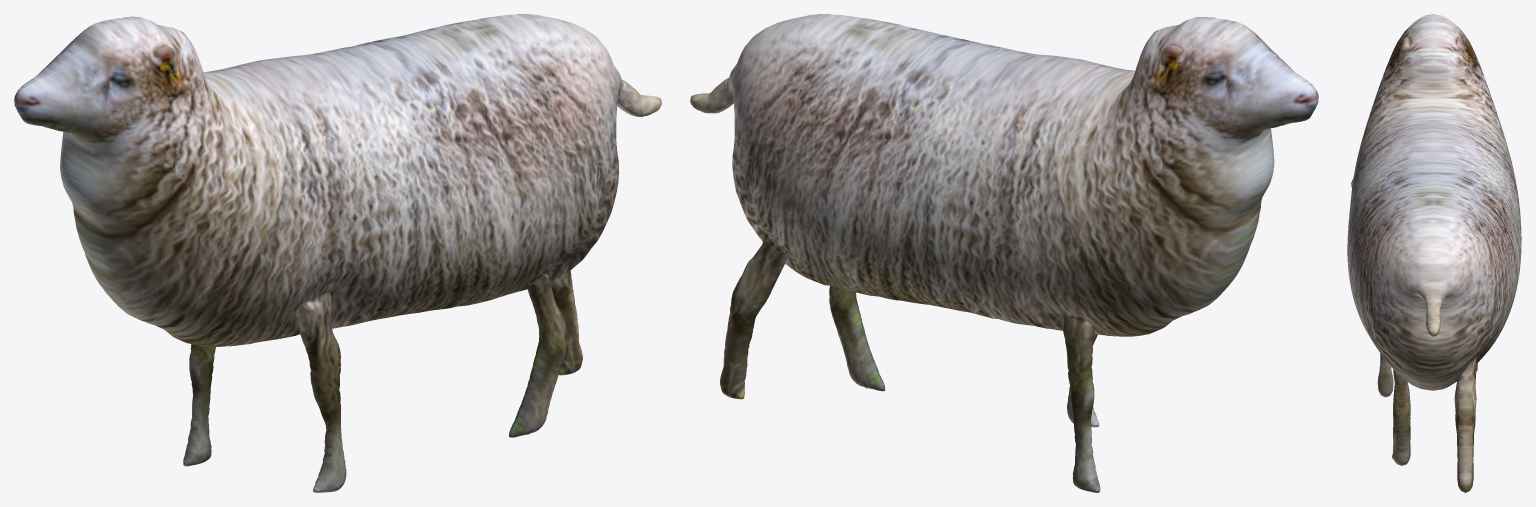
File: lamb.glb
3 views of the same model, side by side, from view 1: azimuth 30°, elevation 25°; view 2: azimuth 150°, elevation 25°; view 3: azimuth 270°, elevation 25° (orthographic). The views are drawn at different scales.
Visible parts, largest first — view 1: mesh_0; view 2: mesh_0; view 3: mesh_0.
Part boxes in pixels (bbox=[...]): mesh_0: bbox=[14, 14, 661, 492]; mesh_0: bbox=[690, 14, 1318, 492]; mesh_0: bbox=[1347, 14, 1521, 492].
Bounding box in the file's own units: 7.04 × 5.08 × 2.49.
1 material, 1 textured.
